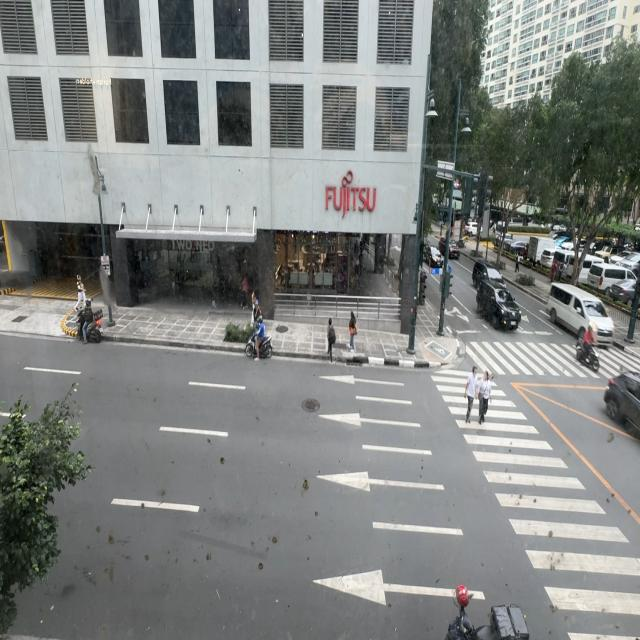crossing: (464, 365, 478, 423), (477, 371, 492, 425)
jaywalking: (326, 318, 336, 363)
